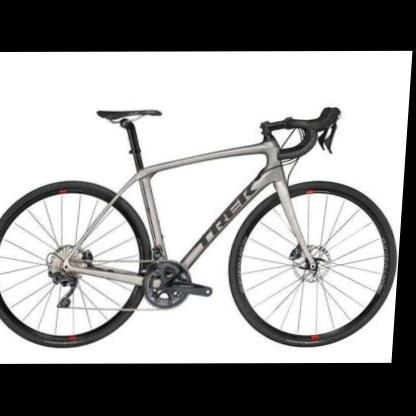Bicycle: (0, 91, 399, 358)
